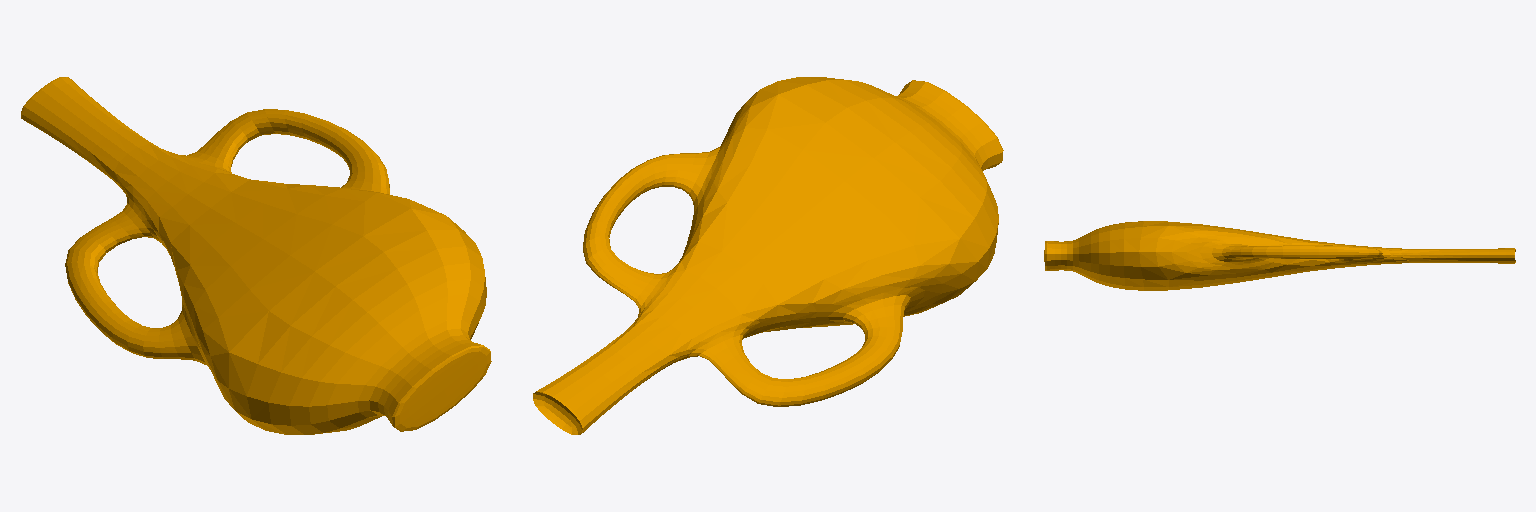
The robot description file, URDF, robot "255":
<?xml version="1.0" ?>
<robot name="255">
  <link name="body">
    <visual>
      <geometry>
        <mesh filename="../shapes/255.obj"/>
      </geometry>
    </visual>
    <collision>
      <geometry>
        <mesh filename="../shapes/255.obj"/>
      </geometry>
    </collision>
  </link>
</robot>

--- What the picture shows (computed from the rendered views, not written in the file) ---
Views: 3 orthographic renders of the robot side by side, from view 1: azimuth 30°, elevation 25°; view 2: azimuth 150°, elevation 25°; view 3: azimuth 270°, elevation 25°.
Model 255 with 1 links and 0 joints (none), rooted at body, posed every joint at zero.
Links seen in each view (by area): view 1: body; view 2: body; view 3: body.
Link boxes in pixels (x1=…): body: x1=21, y1=77, x2=491, y2=434; body: x1=533, y1=77, x2=1003, y2=434; body: x1=1044, y1=221, x2=1515, y2=290.
Bounding box of the posed robot: 5.95 × 16.15 × 3.88 m (x, y, z).
1 mesh visuals loaded from 1 distinct referenced files (1 OBJ).